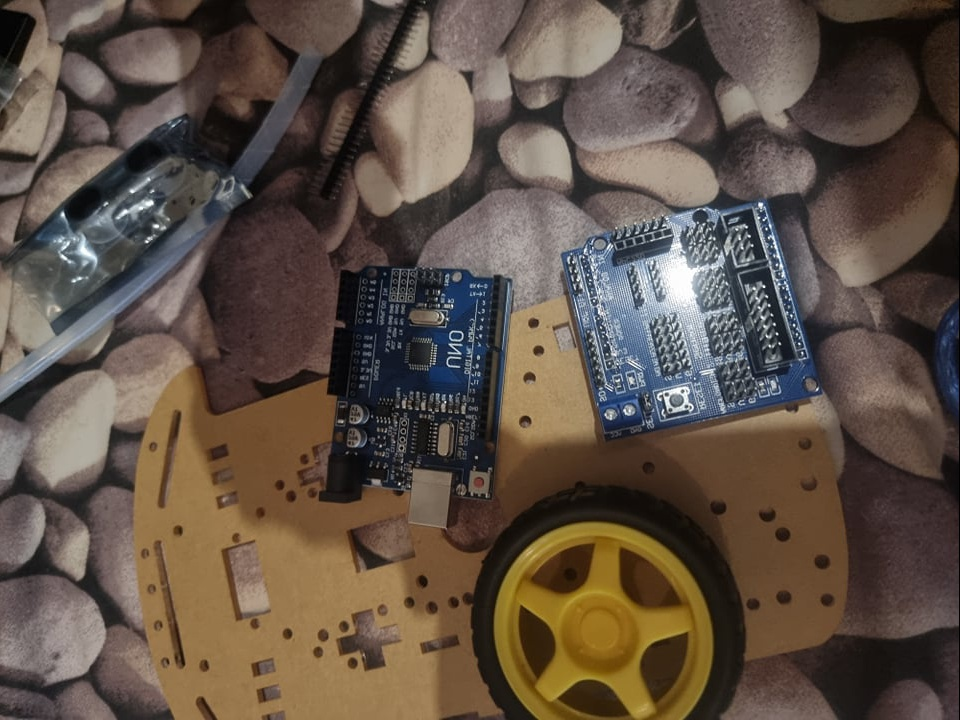5V EXPANSION: (562, 197, 825, 442)
UNO R3: (318, 267, 517, 529)
